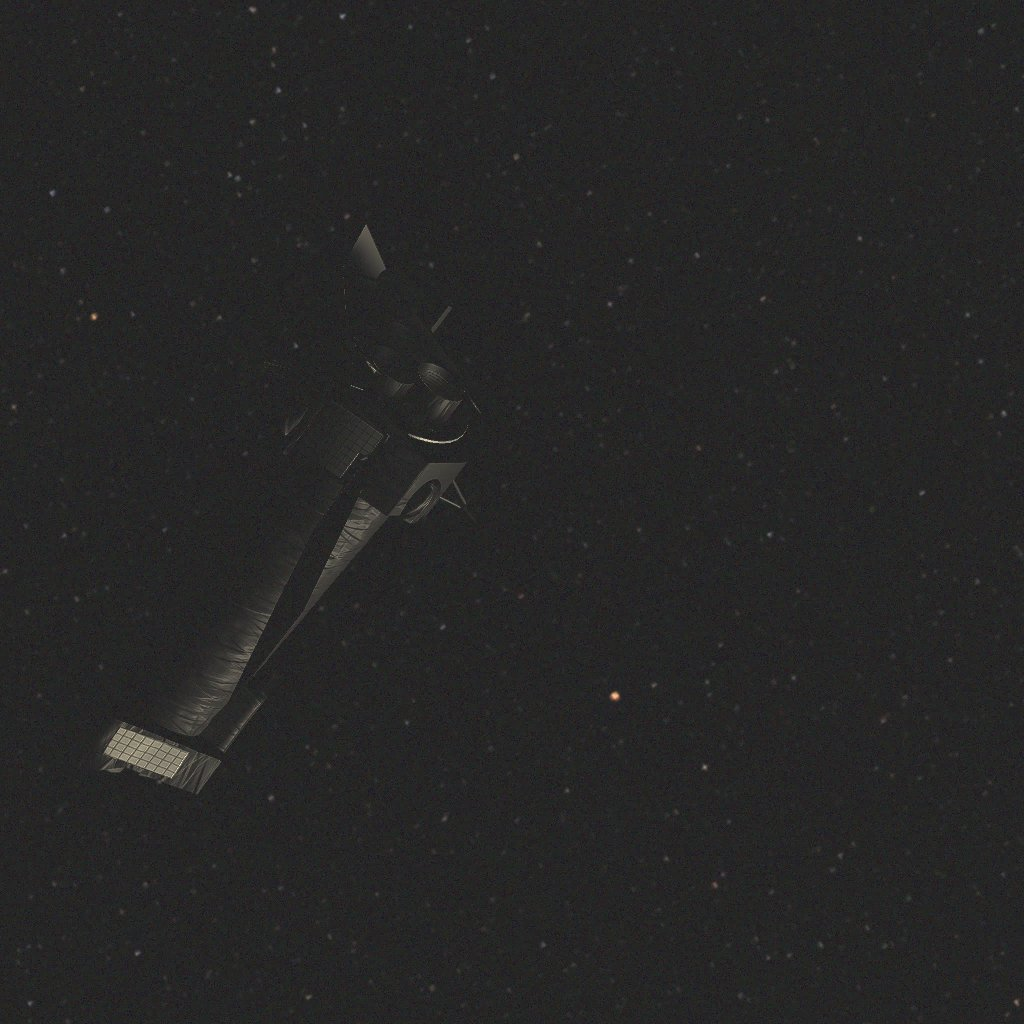xmm_newton: (41, 158, 523, 794)
